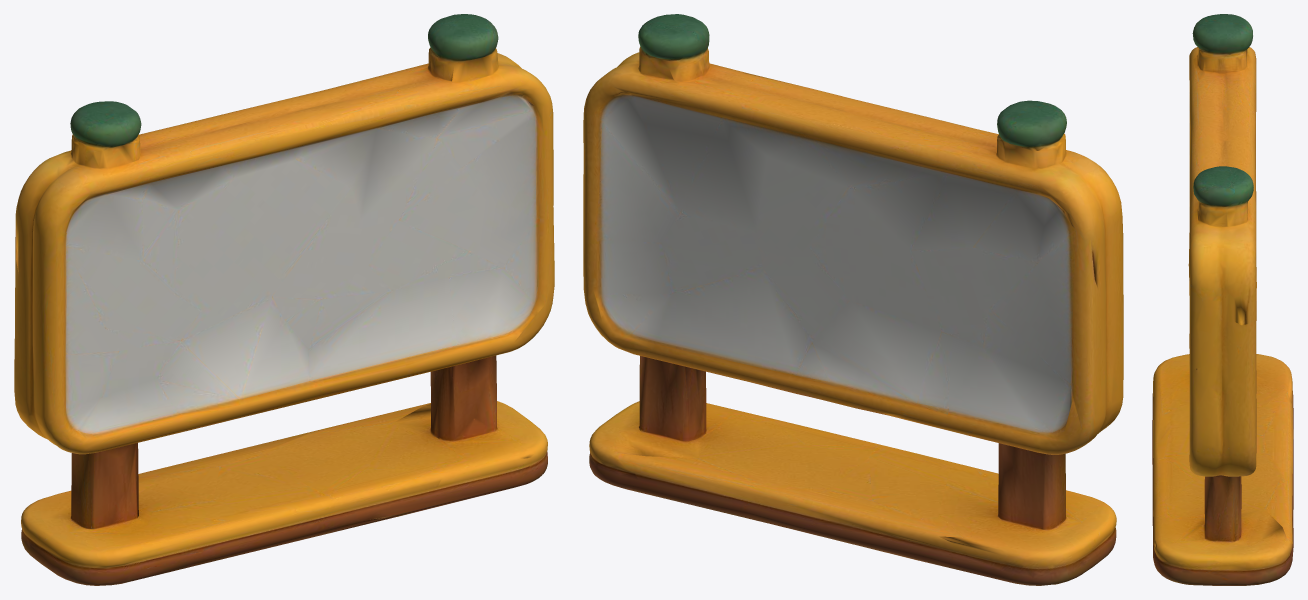
The model's file is prop-signboard.glb.
3 renders of one model, left to right at view 1: azimuth 30°, elevation 25°; view 2: azimuth 150°, elevation 25°; view 3: azimuth 270°, elevation 25°, orthographic. The views are drawn at different scales.
Parts seen in each view (by area): view 1: Mesh_0; view 2: Mesh_0; view 3: Mesh_0.
Part boxes in pixels (x1=…): Mesh_0: x1=14, y1=14, x2=554, y2=585; Mesh_0: x1=583, y1=14, x2=1123, y2=585; Mesh_0: x1=1152, y1=14, x2=1293, y2=585.
Size of the model in its own units: 2 by 1.66 by 0.5476.
Materials: 1 (1 with a texture image).
